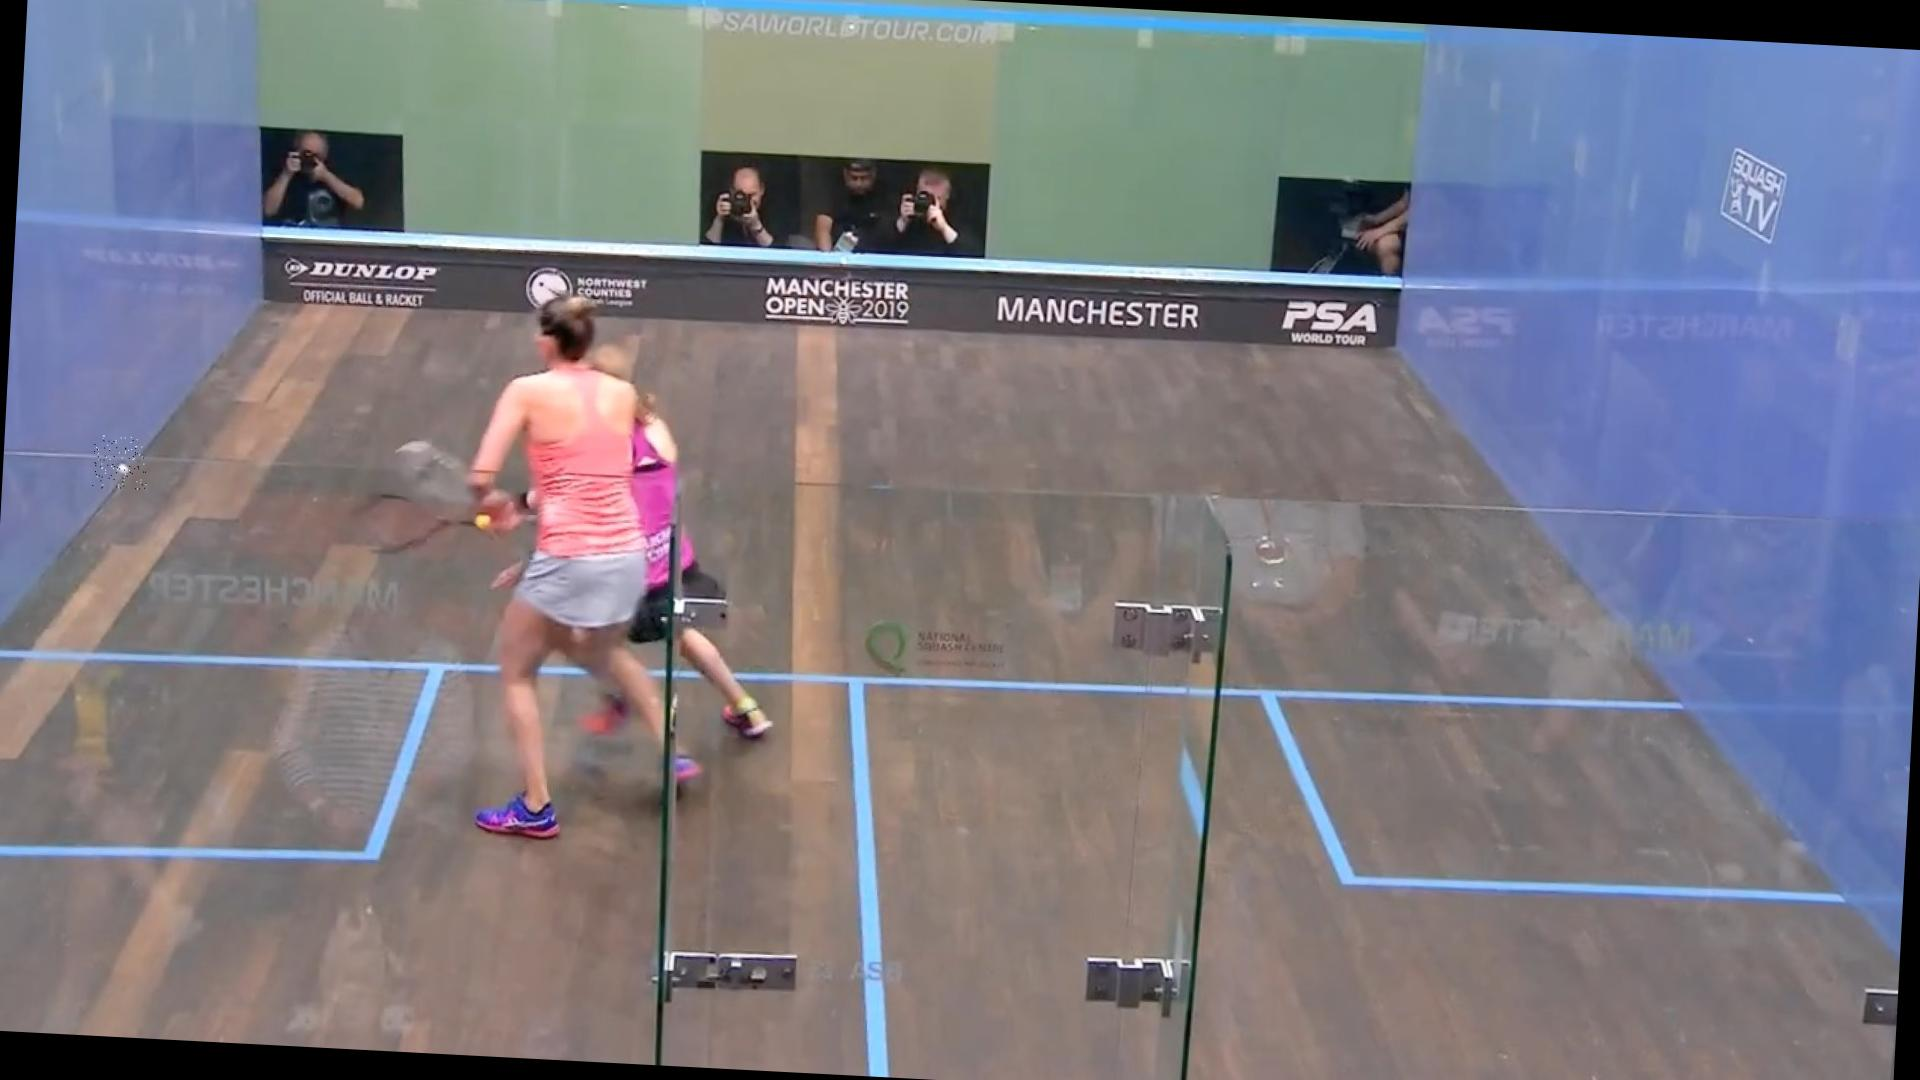Squash-Ball: (92, 434, 148, 491)
